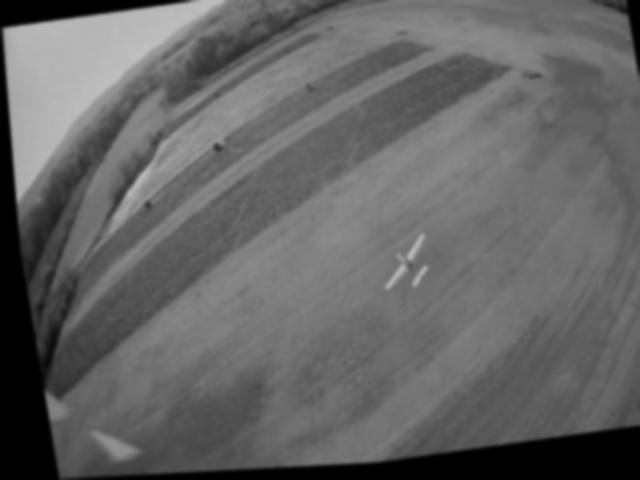hedef: (358, 227, 446, 309)
